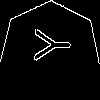Y: (25, 27, 71, 62)
